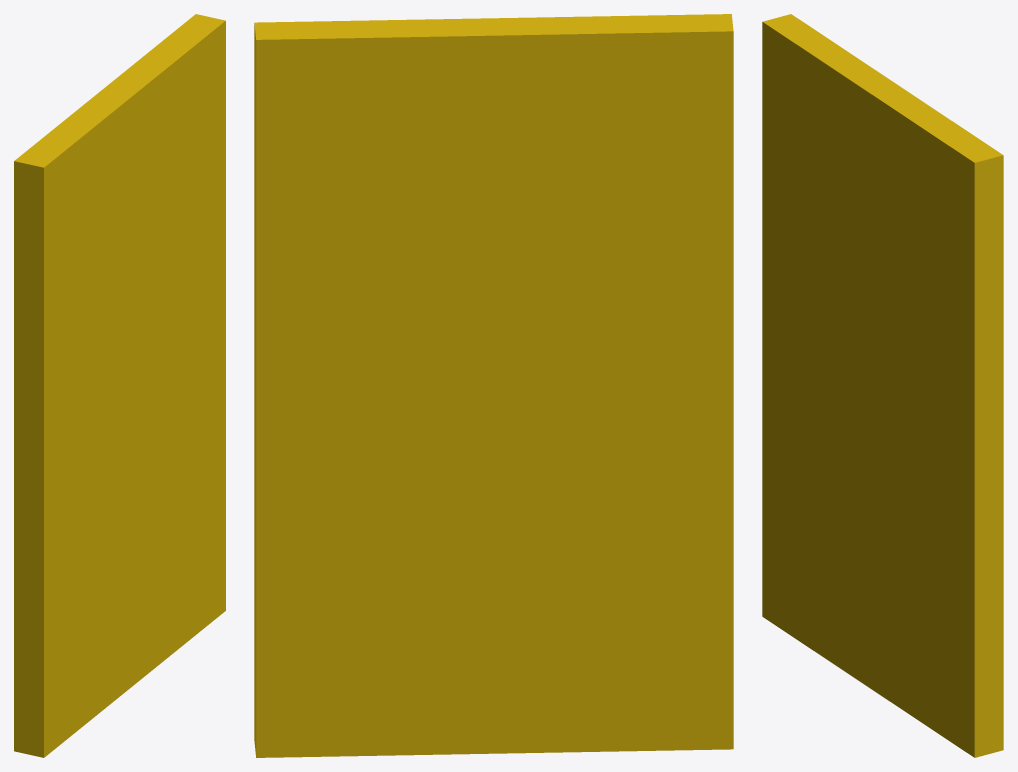
Rendered from Parts_Solar Panel.fbx.
3 renders of one model, left to right at view 1: azimuth 30°, elevation 25°; view 2: azimuth 150°, elevation 25°; view 3: azimuth 270°, elevation 25°, orthographic. The views are drawn at different scales.
Visible parts, largest first — view 1: Box015; view 2: Box015; view 3: Box015.
Boxes of the visible parts, left/top/right/bottom form: Box015: left=14, top=14, right=225, bottom=757; Box015: left=254, top=14, right=733, bottom=757; Box015: left=762, top=14, right=1003, bottom=757.
Size of the model in its own units: 19.26 by 35.87 by 13.18.
